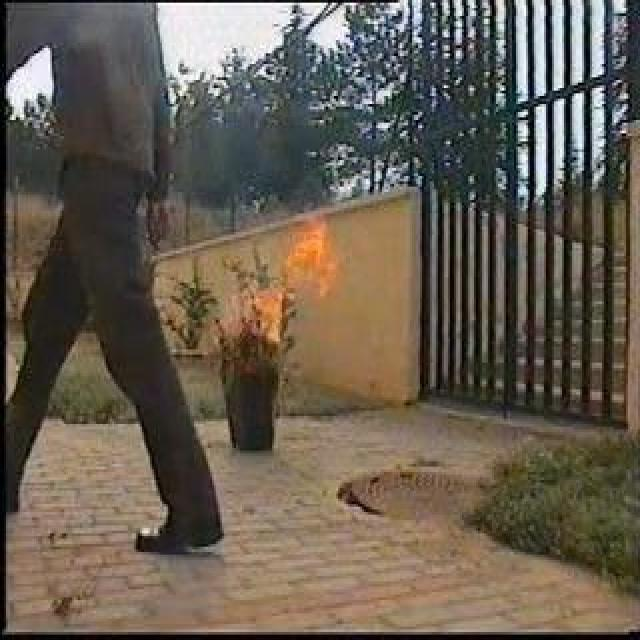Fire: (224, 225, 332, 338)
